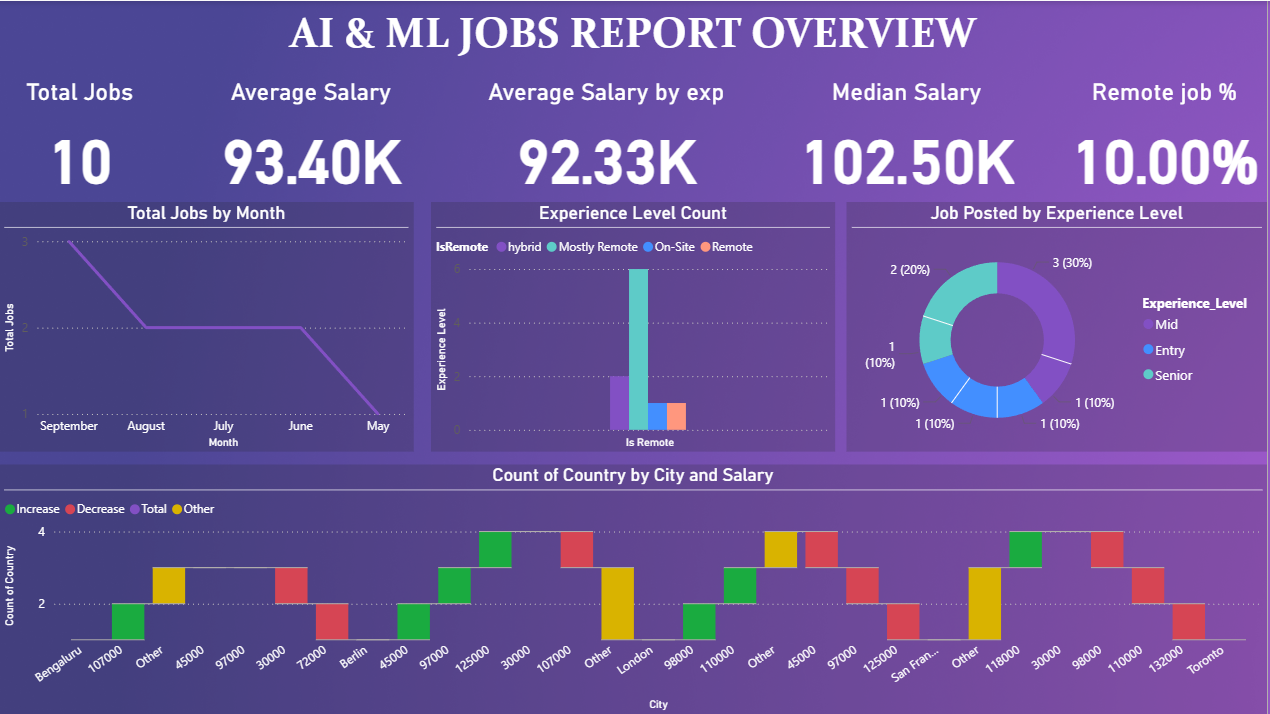

What the dashboard file says about the page in this screenshot:
{"tool":"powerbi","page":{"name":"Overview","canvas":[1280,720],"ordinal":0},"visuals":[{"type":"textbox","box":[0,0,1280,76.9],"z":0},{"type":"card","title":"Total Jobs","fields":{"Values":["Fact_Jobs.TotalJobs"]},"box":[0,76.9,163.1,126.2],"z":1000},{"type":"card","title":"Average Salary","fields":{"Values":["Fact_Jobs.Avg_Salary"]},"box":[212.3,76.9,206.2,126.2],"z":2000},{"type":"card","title":"Median Salary","fields":{"Values":["Fact_Jobs.MedianSalary"]},"box":[803.1,76.9,227.7,126.2],"z":3000},{"type":"card","title":"Remote job %","fields":{"Values":["Fact_Jobs.Remotejob%"]},"box":[1073.8,76.9,206.2,126.2],"z":4000},{"type":"card","title":"Average Salary by exp","fields":{"Values":["Fact_Jobs.AvgSalarybyExperience"]},"box":[481.5,76.9,263.1,126.2],"z":5000},{"type":"lineChart","title":"Total Jobs by Month","fields":{"Category":["Dim_Date.MonthName"],"Y":["Fact_Jobs.TotalJobs"]},"box":[0,203.1,418.5,252.3],"z":6000},{"type":"clusteredColumnChart","title":"Experience Level Count","fields":{"Series":["Fact_Jobs.IsRemote"],"Y":["CountNonNull(Fact_Jobs.Experience_Level)"]},"box":[435.4,203.1,407.7,252.3],"z":7000},{"type":"donutChart","title":"Job Posted by Experience Level ","fields":{"Series":["Fact_Jobs.IsRemote"],"Category":["Fact_Jobs.Experience_Level"],"Y":["Fact_Jobs.TotalJobs"]},"box":[855.4,203.1,424.6,252.3],"z":8000},{"type":"waterfallChart","title":"Count of Country by City and Salary","fields":{"Category":["Dim_Locations.City"],"Breakdown":["Fact_Jobs.Salary_USD"],"Y":["CountNonNull(Dim_Locations.Country)"]},"box":[0,467.7,1280,252.3],"z":9000}]}

Visuals, with their boxes in screenshot pixels (x1, y1, x2, y2), scaled from the page's 1280x720 canvas onto the 1270x714 screenshot:
textbox: BBox(0, 0, 1269, 76)
"Total Jobs" card: BBox(0, 76, 162, 201)
"Average Salary" card: BBox(211, 76, 415, 201)
"Median Salary" card: BBox(797, 76, 1023, 201)
"Remote job %" card: BBox(1065, 76, 1269, 201)
"Average Salary by exp" card: BBox(478, 76, 739, 201)
"Total Jobs by Month" lineChart: BBox(0, 201, 415, 452)
"Experience Level Count" clusteredColumnChart: BBox(432, 201, 837, 452)
"Job Posted by Experience Level " donutChart: BBox(849, 201, 1269, 452)
"Count of Country by City and Salary" waterfallChart: BBox(0, 464, 1269, 713)
